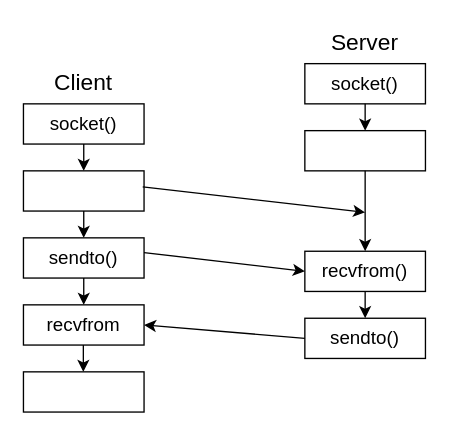
This 449x436 diagram has some shape labels left out. The shapes that lost their labels are listed below. From the top down, each one's box as (x1, y1, x2, y2) in pixels, then its label:
(304, 129, 425, 171): bind()
(22, 170, 144, 211): connect()
(22, 371, 144, 412): close
